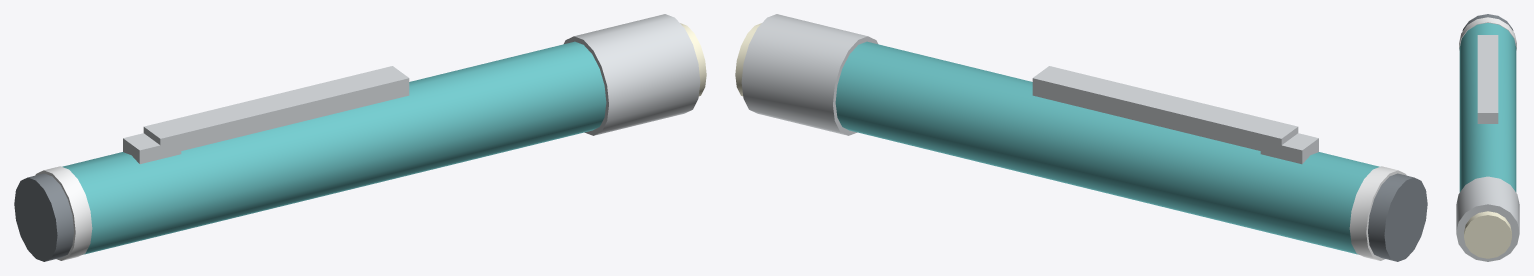
The model's file is penlight.glb.
3 renders of one model, left to right at view 1: azimuth 30°, elevation 25°; view 2: azimuth 150°, elevation 25°; view 3: azimuth 270°, elevation 25°, orthographic. The views are drawn at different scales.
Parts seen in each view (by area): view 1: penlight; view 2: penlight; view 3: penlight.
Part boxes in pixels (x1=…): penlight: x1=14, y1=14, x2=706, y2=261; penlight: x1=735, y1=14, x2=1427, y2=261; penlight: x1=1456, y1=14, x2=1519, y2=261.
Bounding box in the file's own units: 0.157 × 0.0241 × 0.0213.
